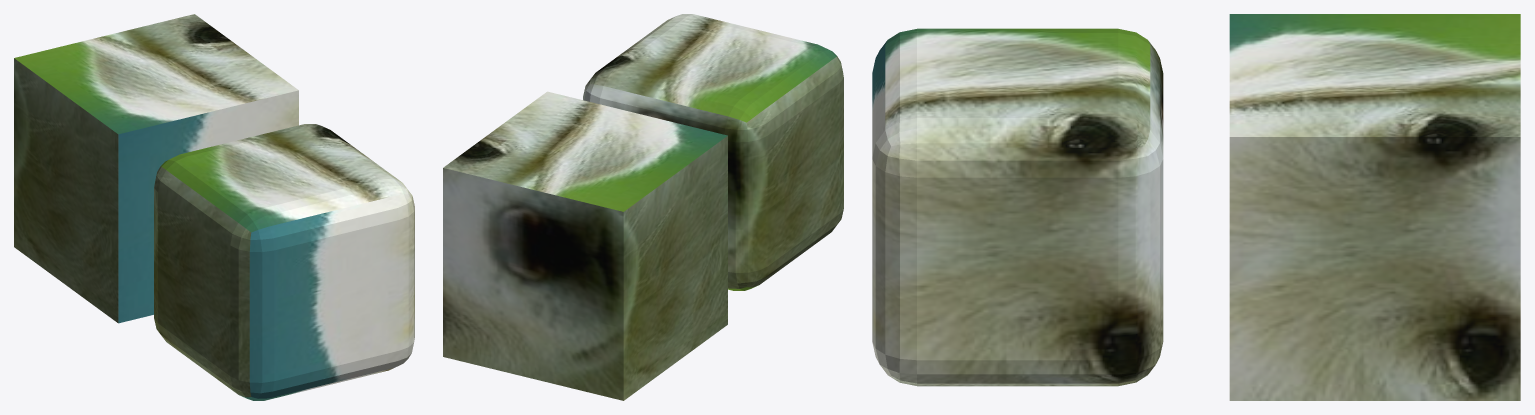
The model's file is demo_object.fbx.
The picture shows the model from 3 angles, left to right: view 1: azimuth 30°, elevation 25°; view 2: azimuth 150°, elevation 25°; view 3: azimuth 270°, elevation 25°; orthographic projection. The views are drawn at different scales.
Visible parts, largest first — view 1: Cube, Cube.001; view 2: Cube.001, Cube; view 3: Cube.001, Cube.
Part boxes in pixels (left/top/right/bottom): Cube: left=154, top=124, right=414, bottom=400; Cube.001: left=14, top=14, right=298, bottom=323; Cube.001: left=443, top=91, right=727, bottom=400; Cube: left=583, top=14, right=843, bottom=290; Cube.001: left=1229, top=14, right=1520, bottom=400; Cube: left=872, top=28, right=1163, bottom=386.
Bounding box in the file's own units: 200 × 200 × 445.
Materials: 1 (1 with a texture image).
